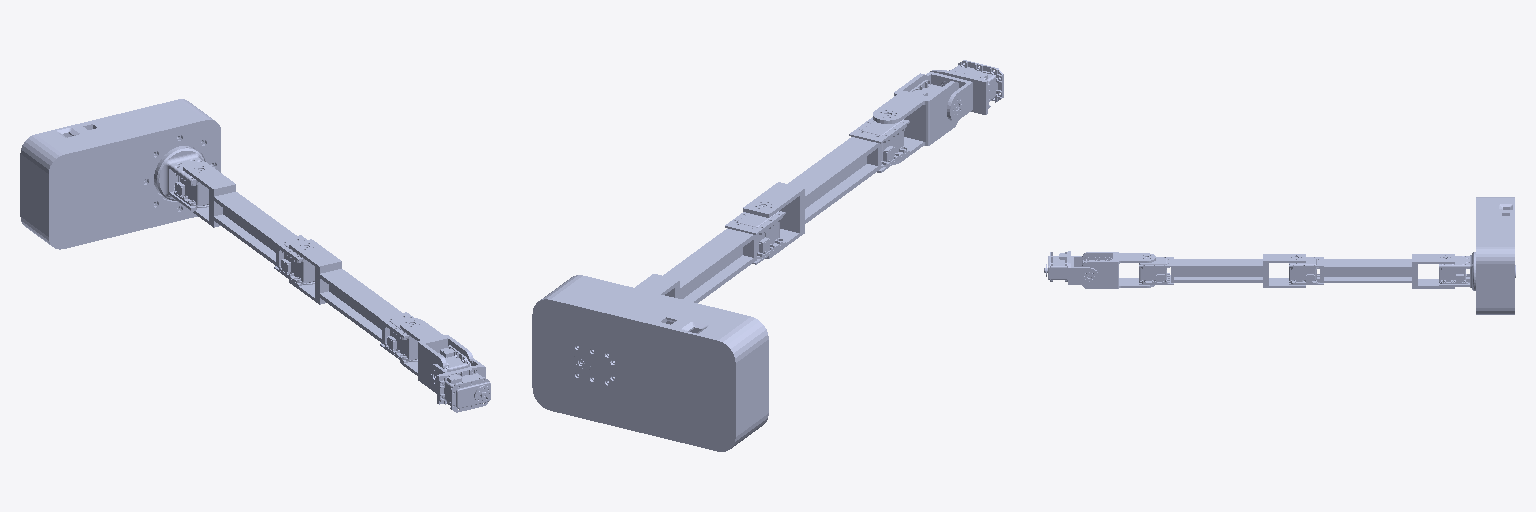
URDF robot description (robot_arm):
<?xml version="1.0" encoding="utf-8"?>
<!-- This URDF was automatically created by SolidWorks to URDF Exporter! Originally created by [author] ([email redacted]) 
     Commit Version: 1.6.0-1-g15f4949  Build Version: 1.6.7594.29634
     For more information, please see http://wiki.ros.org/sw_urdf_exporter -->
<robot
  name="robot_arm">
  <link
    name="base_link">
    <inertial>
      <origin
        xyz="0.10153 0.059553 0.056505"
        rpy="0 0 0" />
      <mass
        value="0.43622" />
      <inertia
        ixx="0.00082285"
        ixy="2.913E-06"
        ixz="-4.0176E-08"
        iyy="0.00064528"
        iyz="-1.0207E-06"
        izz="0.0013806" />
    </inertial>
    <visual>
      <origin
        xyz="0 0 0"
        rpy="0 0 0" />
      <geometry>
        <mesh
          filename="package://robot_arm/meshes/base_link.STL" />
      </geometry>
      <material
        name="">
        <color
          rgba="0.79216 0.81961 0.93333 1" />
      </material>
    </visual>
    <collision>
      <origin
        xyz="0 0 0"
        rpy="0 0 0" />
      <geometry>
        <mesh
          filename="package://robot_arm/meshes/base_link.STL" />
      </geometry>
    </collision>
  </link>
  <link
    name="first_Link">
    <inertial>
      <origin
        xyz="-0.0016876 5.2727E-05 0.037491"
        rpy="0 0 0" />
      <mass
        value="0.27473" />
      <inertia
        ixx="0.00013933"
        ixy="1.4213E-09"
        ixz="1.1191E-07"
        iyy="0.00014014"
        iyz="-1.8275E-07"
        izz="0.00022755" />
    </inertial>
    <visual>
      <origin
        xyz="0 0 0"
        rpy="0 0 0" />
      <geometry>
        <mesh
          filename="package://robot_arm/meshes/first_Link.STL" />
      </geometry>
      <material
        name="">
        <color
          rgba="0.79216 0.81961 0.93333 1" />
      </material>
    </visual>
    <collision>
      <origin
        xyz="0 0 0"
        rpy="0 0 0" />
      <geometry>
        <mesh
          filename="package://robot_arm/meshes/first_Link.STL" />
      </geometry>
    </collision>
  </link>
  <joint
    name="first_yaw"
    type="revolute">
    <origin
      xyz="0.16463 -0.043952 0.059652"
      rpy="1.5708 0 0" />
    <parent
      link="base_link" />
    <child
      link="first_Link" />
    <axis
      xyz="0 0 1" />
    <limit
      lower="0"
      upper="0"
      effort="0"
      velocity="0" />
  </joint>
  <link
    name="second_Link">
    <inertial>
      <origin
        xyz="-1.2712E-05 2.4438E-05 0.14715"
        rpy="0 0 0" />
      <mass
        value="0.13965" />
      <inertia
        ixx="0.00022774"
        ixy="2.6131E-12"
        ixz="1.4187E-09"
        iyy="0.00022298"
        iyz="-1.8276E-07"
        izz="2.3425E-05" />
    </inertial>
    <visual>
      <origin
        xyz="0 0 0"
        rpy="0 0 0" />
      <geometry>
        <mesh
          filename="package://robot_arm/meshes/second_Link.STL" />
      </geometry>
      <material
        name="">
        <color
          rgba="0.79216 0.81961 0.93333 1" />
      </material>
    </visual>
    <collision>
      <origin
        xyz="0 0 0"
        rpy="0 0 0" />
      <geometry>
        <mesh
          filename="package://robot_arm/meshes/second_Link.STL" />
      </geometry>
    </collision>
  </link>
  <joint
    name="second_pitch"
    type="revolute">
    <origin
      xyz="1.2085E-05 0.000725 0.095227"
      rpy="0 0 0" />
    <parent
      link="first_Link" />
    <child
      link="second_Link" />
    <axis
      xyz="0 -1 0" />
    <limit
      lower="0"
      upper="0"
      effort="0"
      velocity="0" />
  </joint>
  <link
    name="third_Link">
    <inertial>
      <origin
        xyz="-1.2712E-05 2.4438E-05 0.14715"
        rpy="0 0 0" />
      <mass
        value="0.13965" />
      <inertia
        ixx="0.00022774"
        ixy="2.6131E-12"
        ixz="1.4187E-09"
        iyy="0.00022298"
        iyz="-1.8276E-07"
        izz="2.3425E-05" />
    </inertial>
    <visual>
      <origin
        xyz="0 0 0"
        rpy="0 0 0" />
      <geometry>
        <mesh
          filename="package://robot_arm/meshes/third_Link.STL" />
      </geometry>
      <material
        name="">
        <color
          rgba="0.79216 0.81961 0.93333 1" />
      </material>
    </visual>
    <collision>
      <origin
        xyz="0 0 0"
        rpy="0 0 0" />
      <geometry>
        <mesh
          filename="package://robot_arm/meshes/third_Link.STL" />
      </geometry>
    </collision>
  </link>
  <joint
    name="third_pitch"
    type="revolute">
    <origin
      xyz="0 0.000475 0.244"
      rpy="0 0 0" />
    <parent
      link="second_Link" />
    <child
      link="third_Link" />
    <axis
      xyz="0 -1 0" />
    <limit
      lower="0"
      upper="0"
      effort="0"
      velocity="0" />
  </joint>
  <link
    name="foutrh_Link">
    <inertial>
      <origin
        xyz="-0.00017232 0.00047404 0.065219"
        rpy="0 0 0" />
      <mass
        value="0.090943" />
      <inertia
        ixx="5.4292E-05"
        ixy="-2.6131E-12"
        ixz="1.8276E-07"
        iyy="4.9911E-05"
        iyz="1.4187E-09"
        izz="2.972E-05" />
    </inertial>
    <visual>
      <origin
        xyz="0 0 0"
        rpy="0 0 0" />
      <geometry>
        <mesh
          filename="package://robot_arm/meshes/foutrh_Link.STL" />
      </geometry>
      <material
        name="">
        <color
          rgba="0.79216 0.81961 0.93333 1" />
      </material>
    </visual>
    <collision>
      <origin
        xyz="0 0 0"
        rpy="0 0 0" />
      <geometry>
        <mesh
          filename="package://robot_arm/meshes/foutrh_Link.STL" />
      </geometry>
    </collision>
  </link>
  <joint
    name="fourth_pitch"
    type="revolute">
    <origin
      xyz="0 0 0.244"
      rpy="0 0 0" />
    <parent
      link="third_Link" />
    <child
      link="foutrh_Link" />
    <axis
      xyz="0 -1 0" />
    <limit
      lower="0"
      upper="0"
      effort="0"
      velocity="0" />
  </joint>
  <link
    name="fifth_Link">
    <inertial>
      <origin
        xyz="8.9768E-05 -1.3047E-05 -0.028381"
        rpy="0 0 0" />
      <mass
        value="0.090943" />
      <inertia
        ixx="5.4292E-05"
        ixy="-2.6131E-12"
        ixz="1.8276E-07"
        iyy="4.9911E-05"
        iyz="1.4187E-09"
        izz="2.972E-05" />
    </inertial>
    <visual>
      <origin
        xyz="0 0 0"
        rpy="0 0 0" />
      <geometry>
        <mesh
          filename="package://robot_arm/meshes/fifth_Link.STL" />
      </geometry>
      <material
        name="">
        <color
          rgba="0.79216 0.81961 0.93333 1" />
      </material>
    </visual>
    <collision>
      <origin
        xyz="0 0 0"
        rpy="0 0 0" />
      <geometry>
        <mesh
          filename="package://robot_arm/meshes/fifth_Link.STL" />
      </geometry>
    </collision>
  </link>
  <joint
    name="fifth_pitch"
    type="revolute">
    <origin
      xyz="-0.00026209 0.00048709 0.0936"
      rpy="0 0 0" />
    <parent
      link="foutrh_Link" />
    <child
      link="fifth_Link" />
    <axis
      xyz="1 0 0" />
    <limit
      lower="0"
      upper="0"
      effort="0"
      velocity="0" />
  </joint>
  <link
    name="sixth_Link">
    <inertial>
      <origin
        xyz="-0.0084341 -1.3676E-06 -0.0089971"
        rpy="0 0 0" />
      <mass
        value="0.063937" />
      <inertia
        ixx="1.2986E-05"
        ixy="1.4187E-09"
        ixz="2.8117E-07"
        iyy="2.4205E-05"
        iyz="2.6322E-12"
        izz="2.0655E-05" />
    </inertial>
    <visual>
      <origin
        xyz="0 0 0"
        rpy="0 0 0" />
      <geometry>
        <mesh
          filename="package://robot_arm/meshes/sixth_Link.STL" />
      </geometry>
      <material
        name="">
        <color
          rgba="0.79216 0.81961 0.93333 1" />
      </material>
    </visual>
    <collision>
      <origin
        xyz="0 0 0"
        rpy="0 0 0" />
      <geometry>
        <mesh
          filename="package://robot_arm/meshes/sixth_Link.STL" />
      </geometry>
    </collision>
  </link>
  <joint
    name="sixth_roll"
    type="revolute">
    <origin
      xyz="-0.000475 -1.2085E-05 0.049873"
      rpy="0 0 0" />
    <parent
      link="fifth_Link" />
    <child
      link="sixth_Link" />
    <axis
      xyz="0 0 -1" />
    <limit
      lower="0"
      upper="0"
      effort="0"
      velocity="0" />
  </joint>
</robot>

--- Render facts (derived) ---
Views: 3 orthographic renders of the robot side by side, from view 1: azimuth 30°, elevation 25°; view 2: azimuth 150°, elevation 25°; view 3: azimuth 270°, elevation 25°.
Robot: robot_arm — 7 links, 6 joints (6 revolute); root link base_link; default pose: every joint at zero.
Visible links, largest first — view 1: base_link, third_Link, second_Link, first_Link, sixth_Link, foutrh_Link, fifth_Link; view 2: base_link, third_Link, second_Link, foutrh_Link, sixth_Link, fifth_Link; view 3: base_link, second_Link, third_Link, sixth_Link, first_Link, foutrh_Link, fifth_Link.
Link boxes in pixels (<box>): base_link: <box>20,99,220,249</box>; third_Link: <box>289,239,417,362</box>; second_Link: <box>183,162,314,285</box>; first_Link: <box>144,136,212,211</box>; sixth_Link: <box>428,358,490,412</box>; foutrh_Link: <box>400,318,472,393</box>; fifth_Link: <box>400,320,472,389</box>; base_link: <box>532,275,768,451</box>; third_Link: <box>743,114,909,258</box>; second_Link: <box>635,205,785,302</box>; foutrh_Link: <box>873,73,958,164</box>; sixth_Link: <box>926,60,1003,121</box>; fifth_Link: <box>873,74,958,164</box>; base_link: <box>1476,197,1514,314</box>; second_Link: <box>1289,254,1454,288</box>; third_Link: <box>1139,254,1305,287</box>; sixth_Link: <box>1044,251,1098,284</box>; first_Link: <box>1439,252,1515,290</box>; foutrh_Link: <box>1082,252,1155,288</box>; fifth_Link: <box>1082,252,1154,288</box>.
Size in the robot's own frame: 0.23 by 0.7686 by 0.12 metres.
7 mesh visuals loaded from 7 distinct referenced files (7 binary STL).